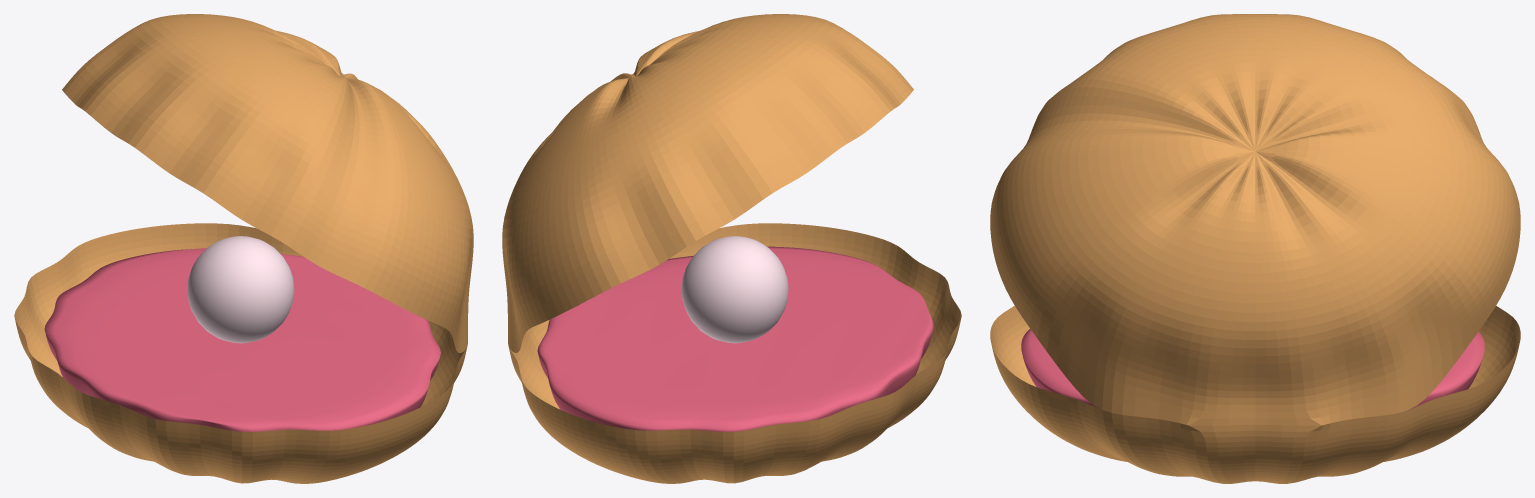
The model's file is oyster.glb.
The picture shows the model from 3 angles, left to right: view 1: azimuth 30°, elevation 25°; view 2: azimuth 150°, elevation 25°; view 3: azimuth 270°, elevation 25°; orthographic projection.
Visible parts, largest first — view 1: Sphere, Sphere.002, Sphere.001, Sphere.003; view 2: Sphere, Sphere.002, Sphere.001, Sphere.003; view 3: Sphere, Sphere.001, Sphere.002.
Part boxes in pixels (x1=…): Sphere: x1=62, y1=14, x2=473, y2=352; Sphere.002: x1=44, y1=248, x2=440, y2=431; Sphere.001: x1=14, y1=223, x2=467, y2=483; Sphere.003: x1=187, y1=236, x2=294, y2=343; Sphere: x1=502, y1=14, x2=913, y2=352; Sphere.002: x1=537, y1=246, x2=933, y2=431; Sphere.001: x1=508, y1=223, x2=961, y2=483; Sphere.003: x1=681, y1=236, x2=788, y2=343; Sphere: x1=990, y1=14, x2=1520, y2=425; Sphere.001: x1=990, y1=305, x2=1520, y2=483; Sphere.002: x1=1021, y1=329, x2=1484, y2=409.
Bounding box in the file's own units: 1.37 × 1.4 × 1.63.
